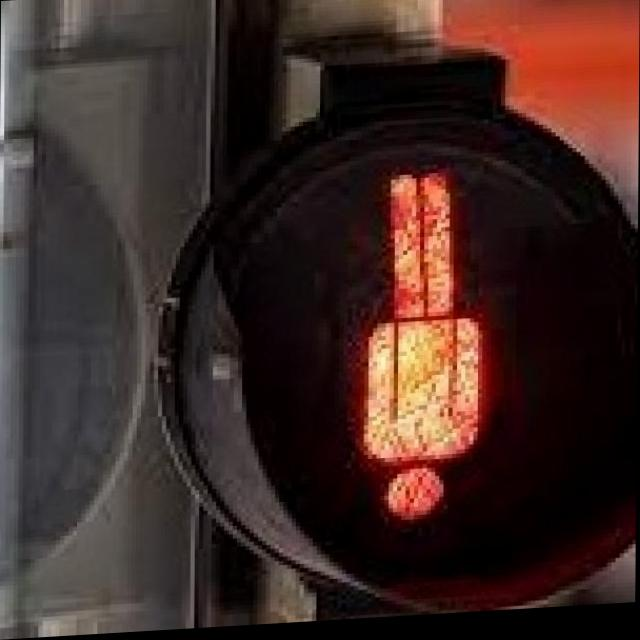red_light: (342, 157, 500, 552)
